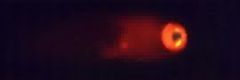keyhole: (171, 30, 184, 44)
